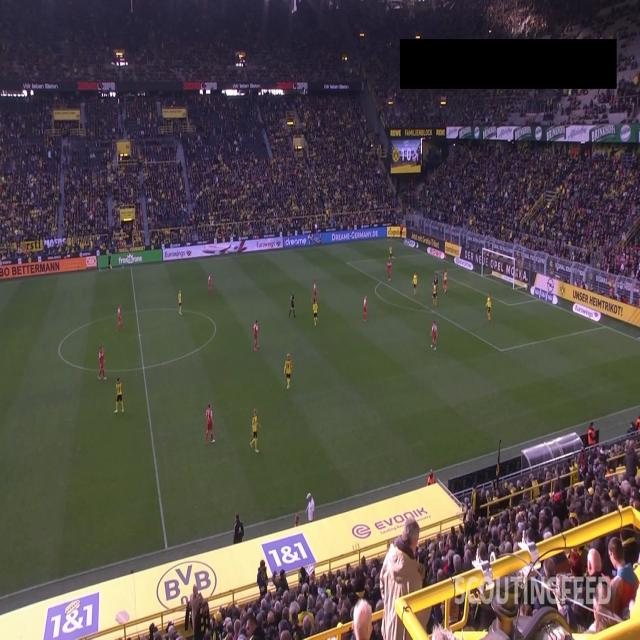f_player: (203, 400, 218, 450), (249, 407, 261, 458), (282, 352, 292, 392), (115, 378, 126, 414), (96, 348, 106, 382), (311, 298, 320, 328), (253, 320, 261, 351), (117, 304, 126, 331), (485, 294, 493, 322), (431, 322, 439, 349), (432, 271, 439, 299), (386, 257, 393, 284), (363, 296, 370, 322), (176, 290, 183, 316), (442, 266, 448, 296), (312, 276, 319, 301), (412, 271, 419, 295), (388, 244, 396, 264), (432, 282, 438, 308), (207, 273, 213, 296)
umpire: (290, 287, 298, 318), (106, 253, 113, 274)
